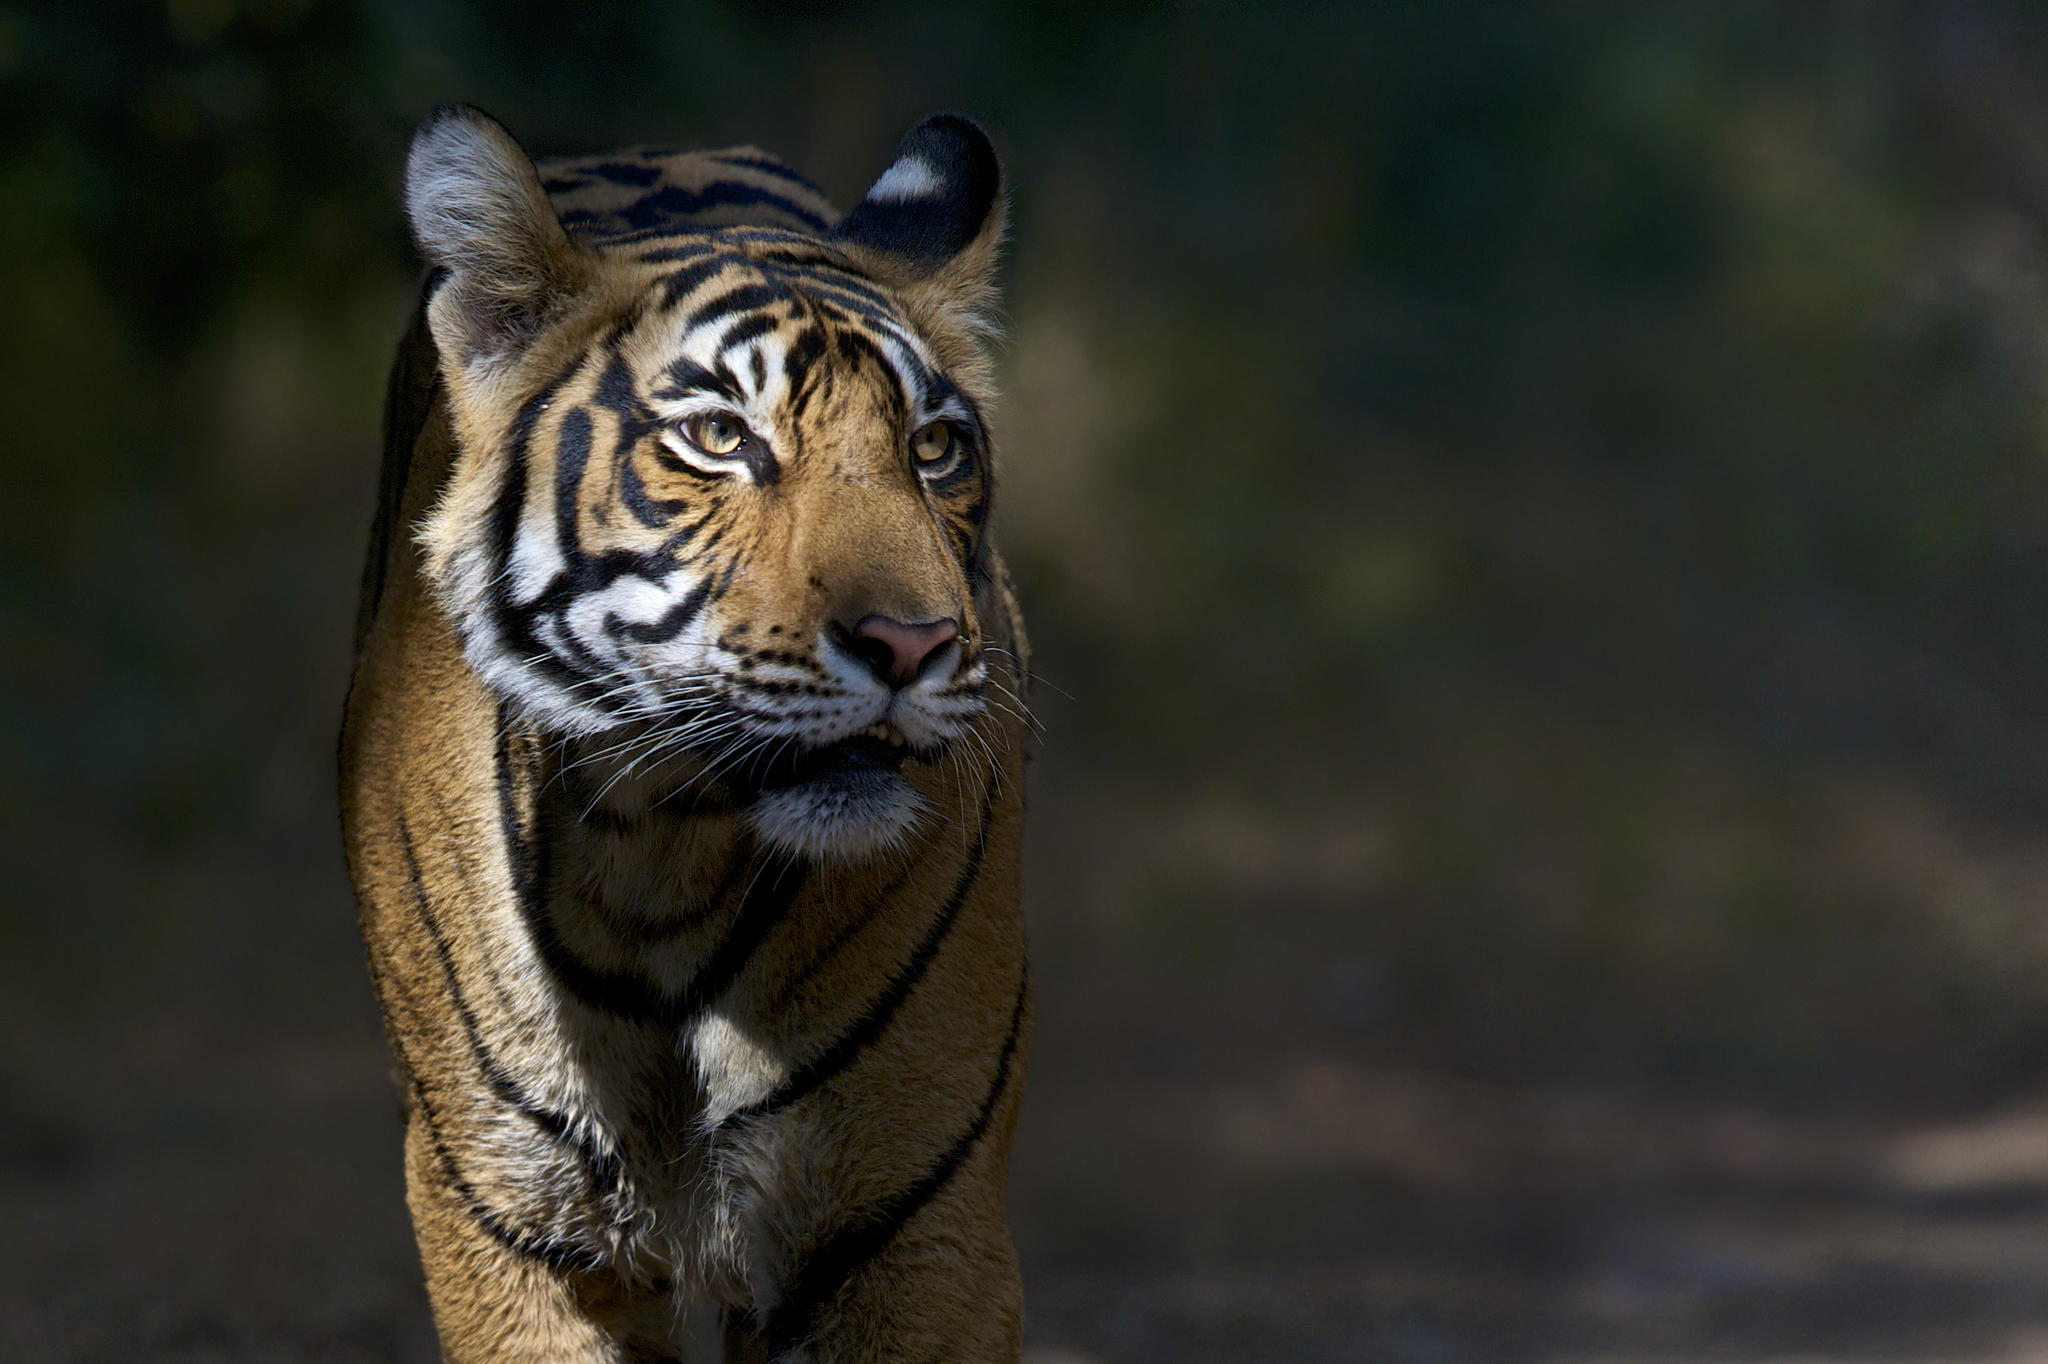tiger: (320, 100, 1134, 1260)
